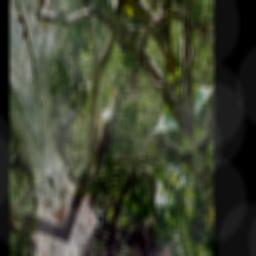Cuckoo: (63, 81, 139, 199)
